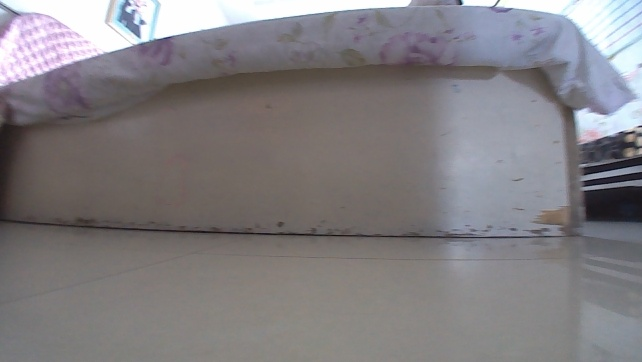bed: (0, 0, 638, 237)
